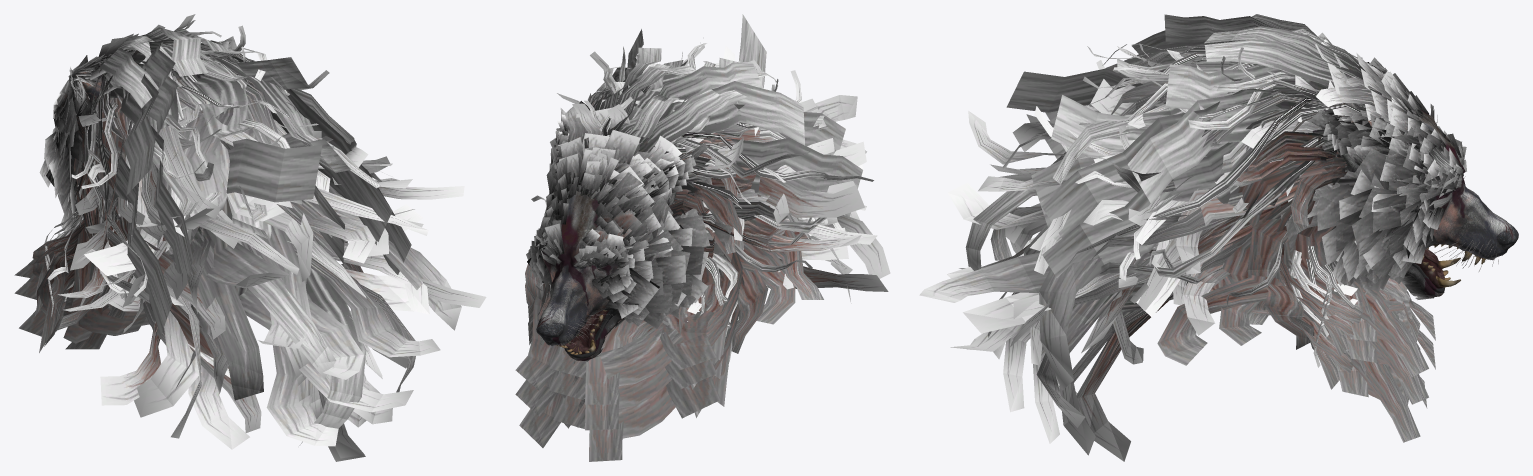
File: bestboy.fbx
3 renders of one model, left to right at view 1: azimuth 30°, elevation 25°; view 2: azimuth 150°, elevation 25°; view 3: azimuth 270°, elevation 25°, orthographic. The views are drawn at different scales.
Parts seen in each view (by area): view 1: HD_M_1600.003, HD_M_1600.005, HD_M_1600.002, HD_M_1600.006, HD_M_1600.008, HD_M_1600.010, HD_M_1600.001; view 2: HD_M_1600.003, HD_M_1600.002, HD_M_1600.005, HD_M_1600.010, HD_M_1600.001, HD_M_1600.011, HD_M_1600.006, HD_M_1600.008, HD_M_1600.004, HD_M_1600.007, HD_M_1600.009, HD_M_1600; view 3: HD_M_1600.003, HD_M_1600.005, HD_M_1600.002, HD_M_1600.004, HD_M_1600.001, HD_M_1600.010, HD_M_1600.011, HD_M_1600.007, HD_M_1600.008, HD_M_1600.006, HD_M_1600, HD_M_1600.009.
Part boxes in pixels (left/top/right/bottom): HD_M_1600.003: left=47, top=14, right=464, bottom=458; HD_M_1600.005: left=50, top=27, right=486, bottom=461; HD_M_1600.002: left=39, top=32, right=239, bottom=235; HD_M_1600.006: left=19, top=132, right=146, bottom=352; HD_M_1600.008: left=14, top=202, right=84, bottom=316; HD_M_1600.010: left=14, top=147, right=84, bottom=295; HD_M_1600.001: left=60, top=65, right=101, bottom=170; HD_M_1600.003: left=531, top=29, right=866, bottom=324; HD_M_1600.002: left=526, top=99, right=732, bottom=346; HD_M_1600.005: left=607, top=14, right=890, bottom=353; HD_M_1600.010: left=525, top=249, right=742, bottom=404; HD_M_1600.001: left=540, top=151, right=691, bottom=360; HD_M_1600.011: left=515, top=282, right=671, bottom=390; HD_M_1600.006: left=553, top=213, right=744, bottom=461; HD_M_1600.008: left=525, top=209, right=742, bottom=430; HD_M_1600.004: left=535, top=130, right=694, bottom=361; HD_M_1600.007: left=519, top=386, right=675, bottom=447; HD_M_1600.009: left=515, top=285, right=671, bottom=416; HD_M_1600: left=536, top=264, right=616, bottom=358; HD_M_1600.003: left=919, top=14, right=1380, bottom=427; HD_M_1600.005: left=948, top=26, right=1354, bottom=461; HD_M_1600.002: left=1280, top=32, right=1466, bottom=297; HD_M_1600.004: left=1332, top=63, right=1465, bottom=299; HD_M_1600.001: left=1328, top=109, right=1509, bottom=297; HD_M_1600.010: left=1280, top=169, right=1435, bottom=343; HD_M_1600.011: left=1307, top=226, right=1428, bottom=376; HD_M_1600.007: left=1303, top=309, right=1420, bottom=442; HD_M_1600.008: left=1280, top=177, right=1435, bottom=369; HD_M_1600.006: left=1283, top=167, right=1427, bottom=408; HD_M_1600: left=1412, top=195, right=1518, bottom=293; HD_M_1600.009: left=1344, top=333, right=1428, bottom=404.
Size of the model in its own units: 44.53 by 43.03 by 60.17.
Materials: 14 (14 with a texture image).
